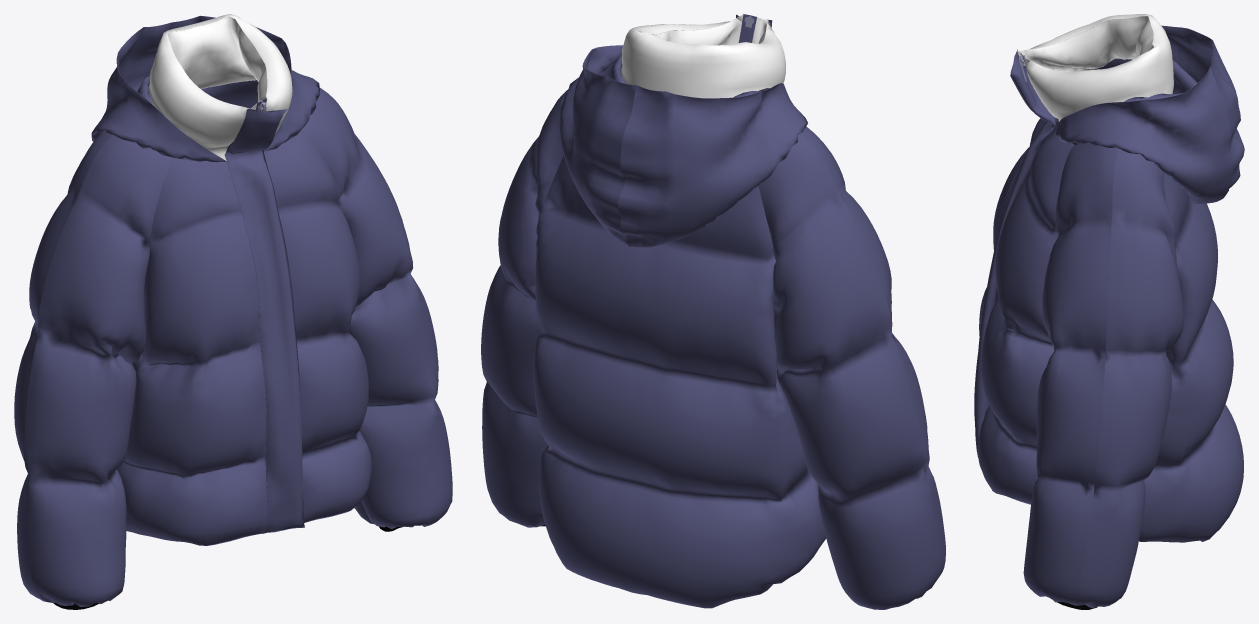
The model's file is purple_down_coat.glb.
3 views of the same model, side by side, from view 1: azimuth 30°, elevation 25°; view 2: azimuth 150°, elevation 25°; view 3: azimuth 270°, elevation 25° (orthographic). The views are drawn at different scales.
Parts seen in each view (by area): view 1: Object_6, Object_8, Object_3, Object_7, Object_9, Object_10, Object_4; view 2: Object_5, Object_4, Object_3, Object_9, Object_10, Object_6; view 3: Object_4, Object_7, Object_9, Object_3, Object_5, Object_10, Object_8.
Boxes of the visible parts, x1=… form: Object_6: x1=24, y1=80, x2=258, y2=606; Object_8: x1=117, y1=156, x2=355, y2=545; Object_3: x1=53, y1=22, x2=420, y2=609; Object_7: x1=300, y1=89, x2=452, y2=529; Object_9: x1=168, y1=15, x2=320, y2=533; Object_10: x1=148, y1=14, x2=292, y2=160; Object_4: x1=14, y1=81, x2=373, y2=602; Object_5: x1=533, y1=155, x2=826, y2=608; Object_4: x1=481, y1=89, x2=940, y2=609; Object_3: x1=541, y1=83, x2=807, y2=526; Object_9: x1=559, y1=14, x2=772, y2=246; Object_10: x1=621, y1=15, x2=785, y2=98; Object_6: x1=800, y1=126, x2=945, y2=576; Object_4: x1=1075, y1=59, x2=1183, y2=608; Object_7: x1=1023, y1=58, x2=1121, y2=605; Object_9: x1=974, y1=16, x2=1244, y2=457; Object_3: x1=977, y1=25, x2=1244, y2=609; Object_5: x1=1139, y1=172, x2=1243, y2=542; Object_10: x1=1017, y1=14, x2=1173, y2=121; Object_8: x1=979, y1=118, x2=1073, y2=504.
Bounding box in the file's own units: 628 × 742 × 366.
2 materials, 1 textured.
